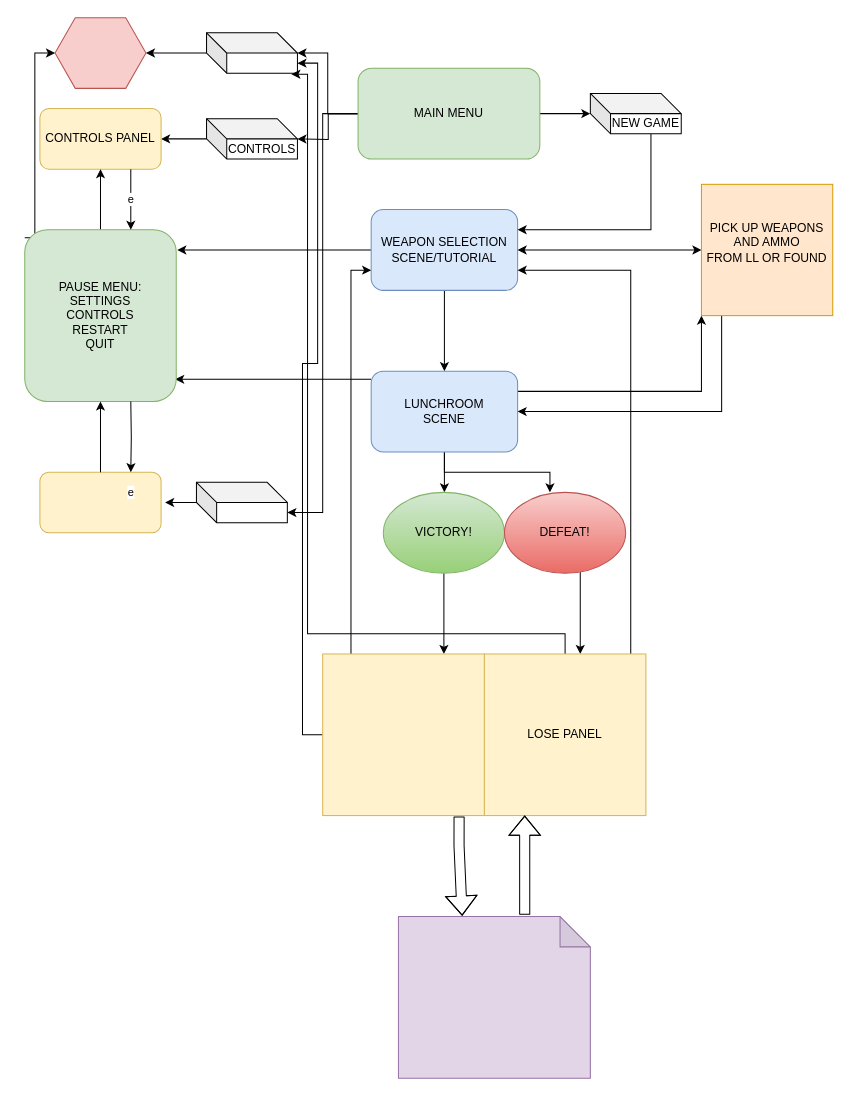
This 850x1096 diagram has some shape labels left out. The shapes that lost their labels are listed below. From the top down, each one's centre as x and y in pixels, then its label:
At (x=100, y=52): "QUIT APPLICATION".
At (x=251, y=52): "QUIT".
At (x=100, y=502): "SETTINGS PANEL".
At (x=241, y=502): "SETTINGS".
At (x=403, y=734): "WIN PANEL".
At (x=493, y=997): "HIGH SCORE".
